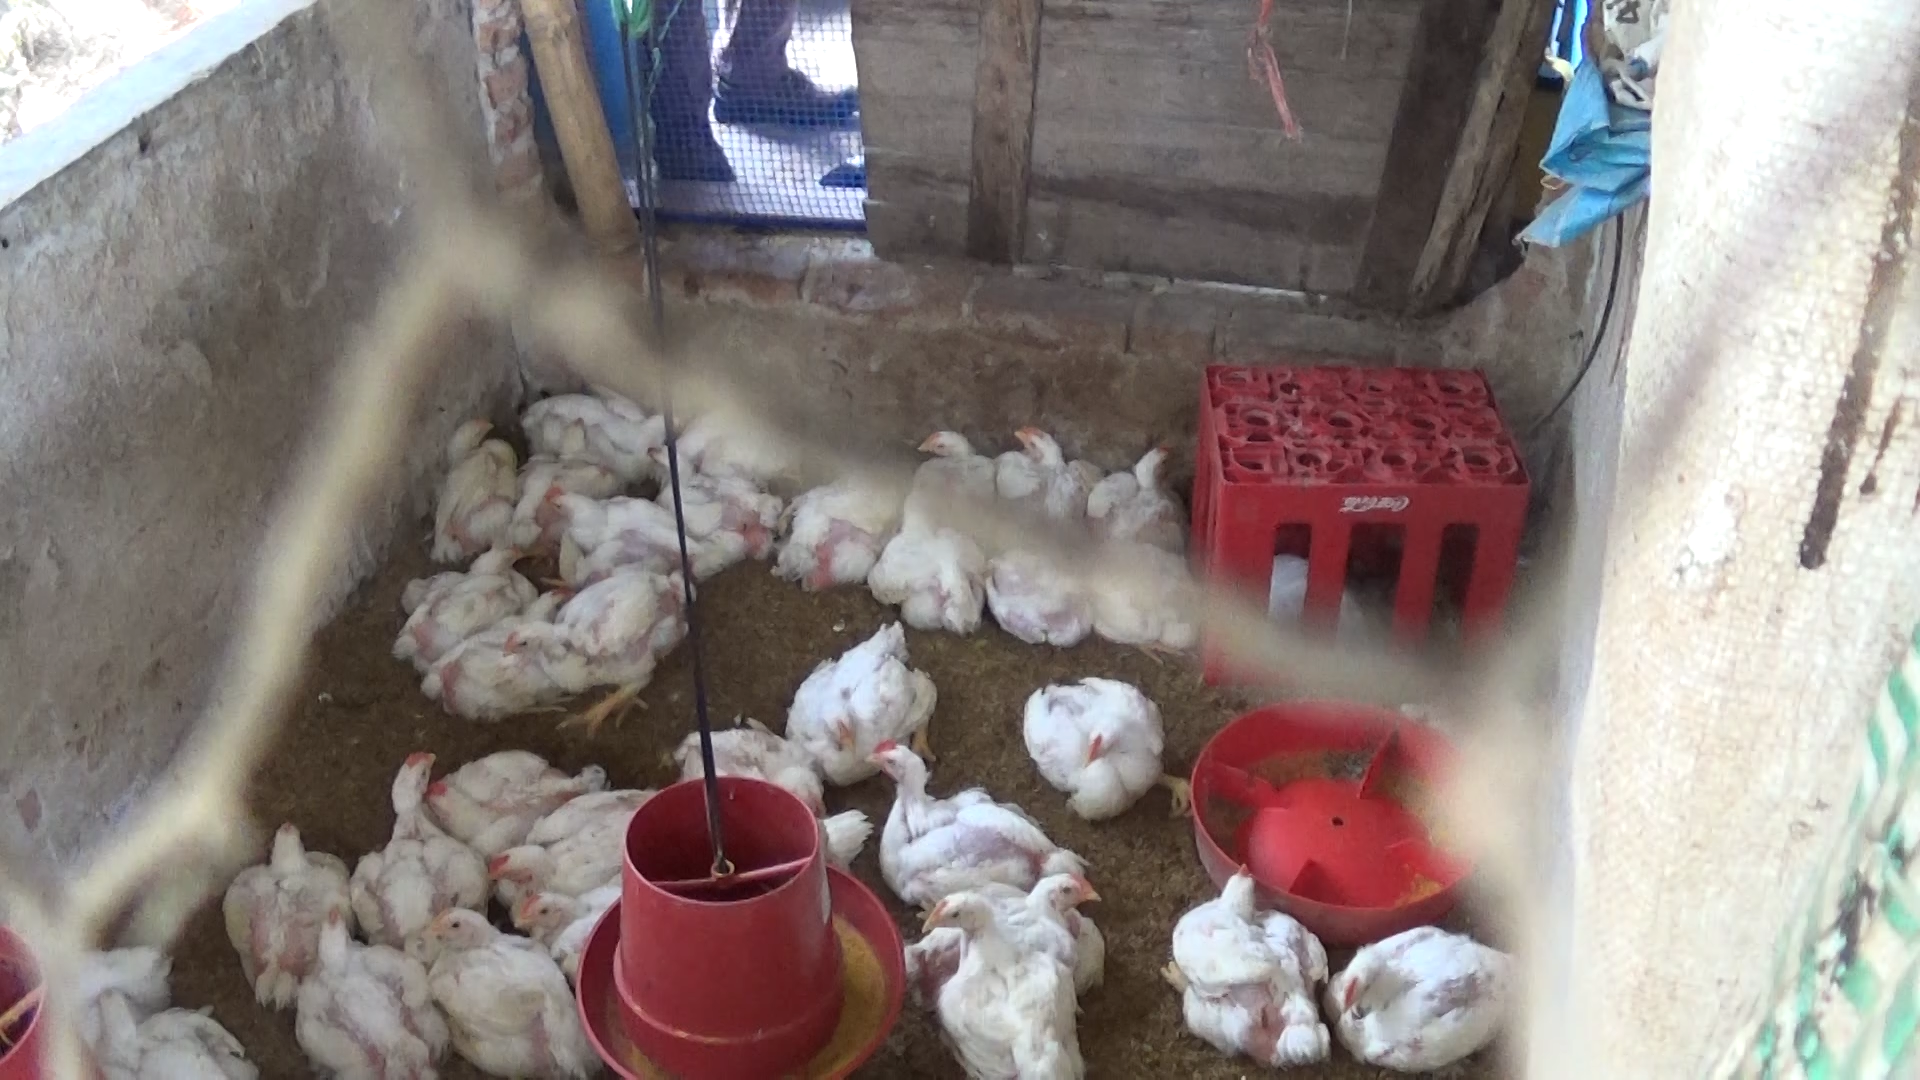Pollos: (405, 895, 597, 1072), (913, 889, 1085, 1080), (1171, 855, 1327, 1062), (858, 731, 1048, 898), (277, 901, 446, 1077), (512, 560, 695, 721), (200, 804, 351, 998), (1323, 923, 1522, 1065), (342, 744, 487, 934), (1019, 659, 1187, 816), (485, 786, 665, 913), (421, 579, 584, 709), (79, 967, 266, 1080), (920, 857, 1105, 968), (800, 622, 926, 782), (531, 481, 709, 591), (414, 402, 531, 560), (380, 545, 535, 655), (674, 713, 814, 823), (436, 735, 596, 827), (767, 469, 885, 592), (665, 429, 781, 550), (516, 384, 674, 469), (884, 517, 984, 641), (1000, 415, 1102, 529), (986, 537, 1092, 641), (1089, 435, 1199, 535), (905, 426, 1000, 541)
